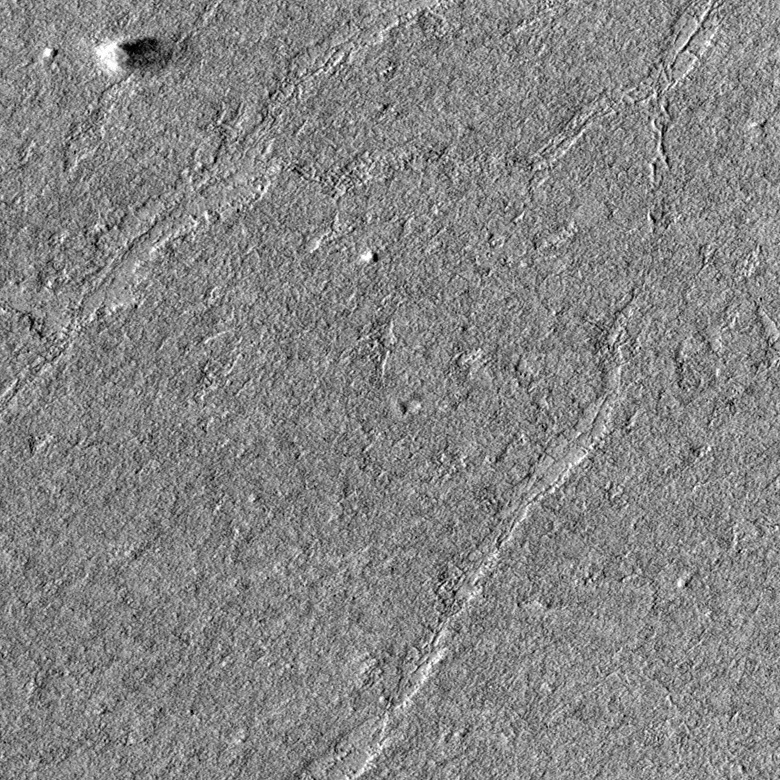dust_devil: (90, 35, 180, 76)
